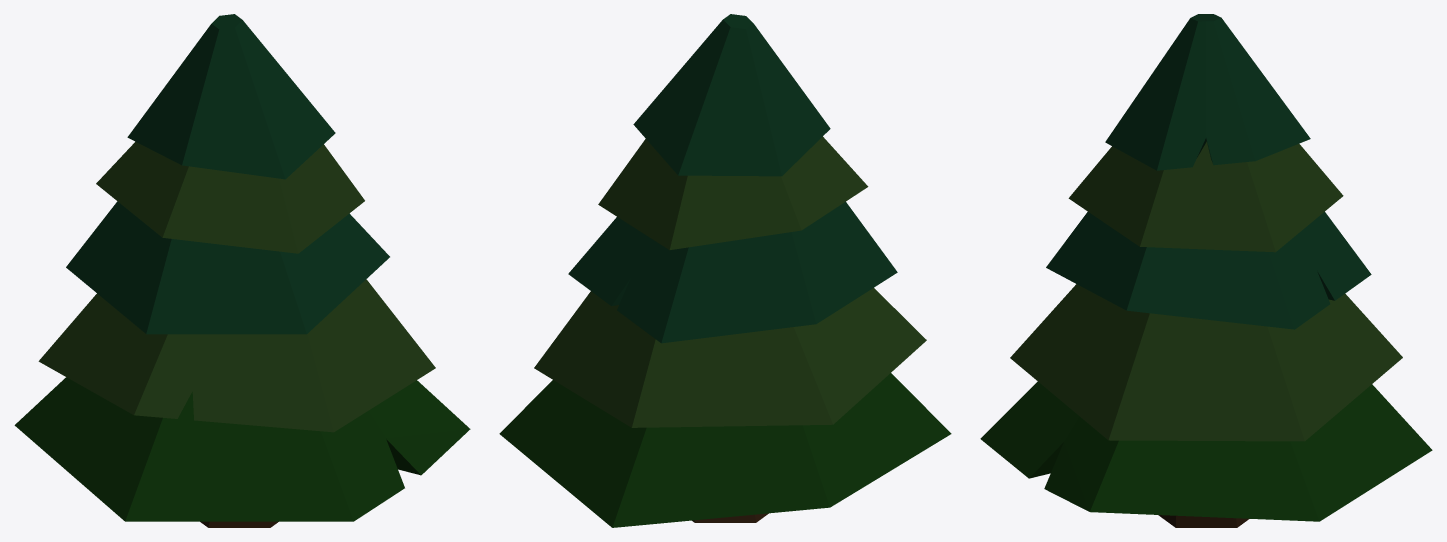
File: Tree4.1.fbx
3 views of the same model, side by side, from view 1: azimuth 30°, elevation 25°; view 2: azimuth 150°, elevation 25°; view 3: azimuth 270°, elevation 25° (orthographic).
Parts seen in each view (by area): view 1: Cylinder.006; view 2: Cylinder.006; view 3: Cylinder.006.
Part boxes in pixels (x1,y1,x2,y2): Cylinder.006: (14,14,470,527); Cylinder.006: (499,14,951,527); Cylinder.006: (980,14,1432,527).
Size of the model in its own units: 318 by 432 by 367.
Materials: 4 (4 with a texture image).
